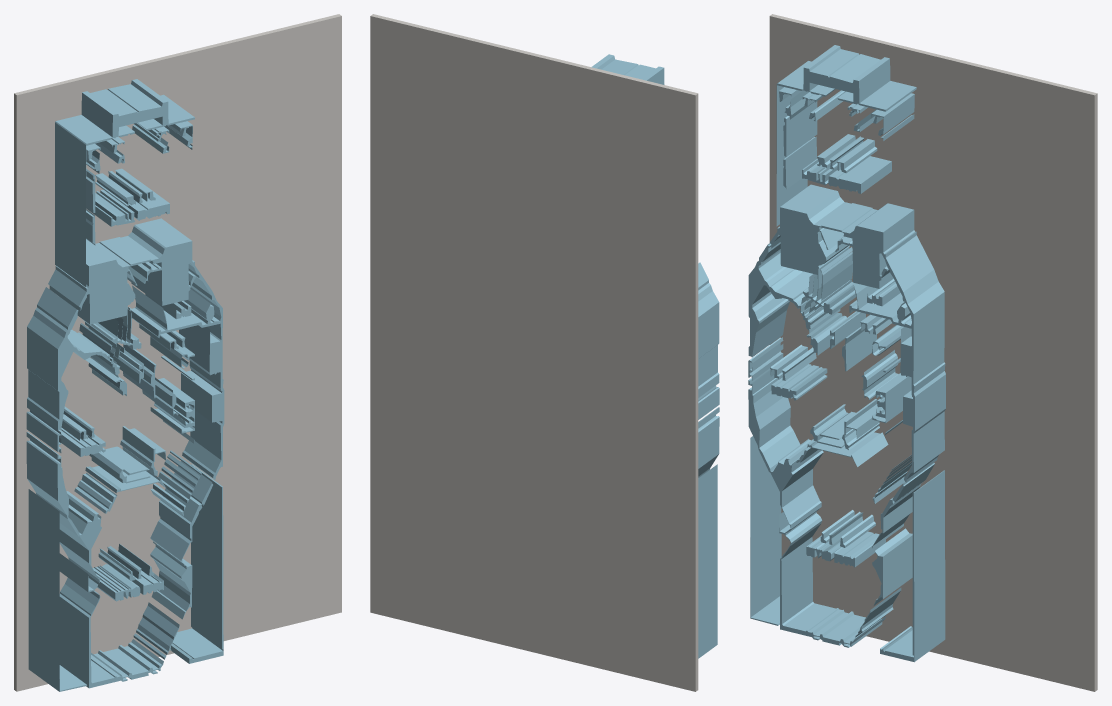
The picture shows the model from 3 angles, left to right: view 1: azimuth 30°, elevation 25°; view 2: azimuth 150°, elevation 25°; view 3: azimuth 330°, elevation 25°; orthographic projection.
Parts seen in each view (by area): view 1: world; view 2: world; view 3: world.
Part boxes in pixels (x1,y1,x2,y2): world: (14,14,341,691); world: (370,14,719,691); world: (748,14,1097,691).
Bounding box in the file's own units: 10.23 × 17.93 × 1.84.
